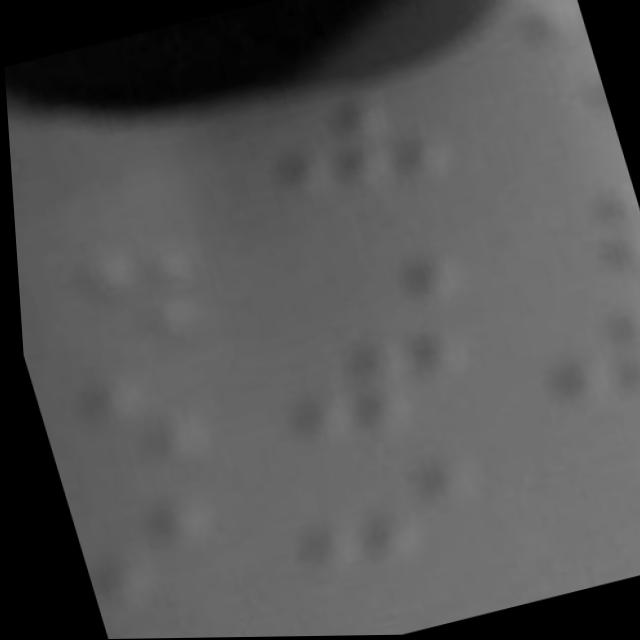braiile: (231, 76, 464, 219), (264, 196, 486, 334), (12, 219, 222, 361), (262, 446, 478, 581), (273, 311, 484, 448), (24, 342, 209, 482), (59, 469, 231, 606), (507, 169, 640, 303), (519, 287, 640, 413), (542, 524, 640, 596), (96, 608, 214, 639)
